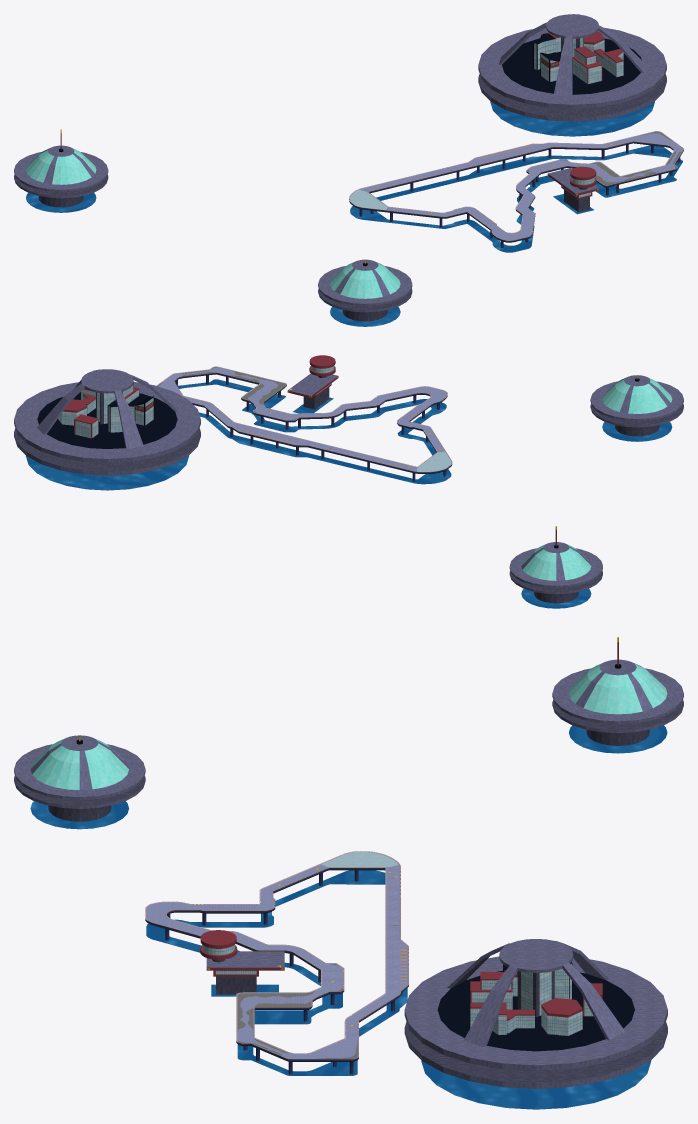
The picture shows the model from 3 angles, top to bottom: view 1: azimuth 30°, elevation 25°; view 2: azimuth 150°, elevation 25°; view 3: azimuth 270°, elevation 25°; orthographic projection. The views are drawn at different scales.
Parts seen in each view (by area): view 1: BigBlue1f_Main-PlainGray, BigBlue1f_Main-UT_wataBigBlueDark, BigBlue1f_Main-PlainGrayNotsoPlain, BigBlue1f_Main-DomeShield, BigBlue1f_Main-BlackAlmost, BigBlue1f_Main-zRoadBlue, BigBlue1f_Main-Skyscrapz0r, BigBlue1f_Main-BUZZ, BigBlue1f_Main-AlternatingBluePanels, BigBlue1f_Main-DarkRed, BigBlue1f_Main-TrackSides, BigBlue1f_Main-TrackSidesShadow (+2 smaller); view 2: BigBlue1f_Main-PlainGray, BigBlue1f_Main-UT_wataBigBlueDark, BigBlue1f_Main-PlainGrayNotsoPlain, BigBlue1f_Main-DomeShield, BigBlue1f_Main-BlackAlmost, BigBlue1f_Main-zRoadBlue, BigBlue1f_Main-Skyscrapz0r, BigBlue1f_Main-BUZZ, BigBlue1f_Main-AlternatingBluePanels, BigBlue1f_Main-DarkRed, BigBlue1f_Main-TrackSides, BigBlue1f_Main-TrackSidesShadow (+4 smaller); view 3: BigBlue1f_Main-PlainGray, BigBlue1f_Main-UT_wataBigBlueDark, BigBlue1f_Main-PlainGrayNotsoPlain, BigBlue1f_Main-DomeShield, BigBlue1f_Main-BlackAlmost, BigBlue1f_Main-zRoadBlue, BigBlue1f_Main-Skyscrapz0r, BigBlue1f_Main-AlternatingBluePanels, BigBlue1f_Main-DarkRed, BigBlue1f_Main-BUZZ, BigBlue1f_Main-TrackSides, BigBlue1f_Main-WeakOffRoad (+3 smaller).
Part boxes in pixels (left/top/right/bottom): BigBlue1f_Main-PlainGray: left=14, top=14, right=666, bottom=312; BigBlue1f_Main-UT_wataBigBlueDark: left=26, top=101, right=682, bottom=326; BigBlue1f_Main-PlainGrayNotsoPlain: left=14, top=37, right=666, bottom=321; BigBlue1f_Main-DomeShield: left=26, top=148, right=400, bottom=298; BigBlue1f_Main-BlackAlmost: left=59, top=33, right=641, bottom=266; BigBlue1f_Main-zRoadBlue: left=359, top=133, right=682, bottom=240; BigBlue1f_Main-Skyscrapz0r: left=534, top=37, right=623, bottom=197; BigBlue1f_Main-BUZZ: left=349, top=131, right=683, bottom=240; BigBlue1f_Main-AlternatingBluePanels: left=364, top=139, right=629, bottom=226; BigBlue1f_Main-DarkRed: left=60, top=31, right=623, bottom=199; BigBlue1f_Main-TrackSides: left=349, top=141, right=683, bottom=241; BigBlue1f_Main-TrackSidesShadow: left=351, top=142, right=676, bottom=242; BigBlue1f_Main-PlainGray: left=14, top=369, right=683, bottom=594; BigBlue1f_Main-UT_wataBigBlueDark: left=26, top=379, right=672, bottom=608; BigBlue1f_Main-PlainGrayNotsoPlain: left=14, top=376, right=683, bottom=603; BigBlue1f_Main-DomeShield: left=521, top=377, right=672, bottom=580; BigBlue1f_Main-BlackAlmost: left=37, top=375, right=639, bottom=548; BigBlue1f_Main-zRoadBlue: left=158, top=367, right=446, bottom=471; BigBlue1f_Main-Skyscrapz0r: left=58, top=366, right=334, bottom=438; BigBlue1f_Main-BUZZ: left=156, top=366, right=452, bottom=472; BigBlue1f_Main-AlternatingBluePanels: left=185, top=385, right=427, bottom=470; BigBlue1f_Main-DarkRed: left=63, top=355, right=556, bottom=545; BigBlue1f_Main-TrackSides: left=174, top=372, right=452, bottom=473; BigBlue1f_Main-TrackSidesShadow: left=175, top=374, right=449, bottom=473; BigBlue1f_Main-PlainGray: left=14, top=659, right=683, bottom=1088; BigBlue1f_Main-UT_wataBigBlueDark: left=30, top=725, right=667, bottom=1109; BigBlue1f_Main-PlainGrayNotsoPlain: left=14, top=700, right=683, bottom=1083; BigBlue1f_Main-DomeShield: left=30, top=662, right=667, bottom=789; BigBlue1f_Main-BlackAlmost: left=76, top=664, right=634, bottom=1051; BigBlue1f_Main-zRoadBlue: left=146, top=864, right=407, bottom=1058; BigBlue1f_Main-Skyscrapz0r: left=202, top=945, right=593, bottom=1035; BigBlue1f_Main-AlternatingBluePanels: left=204, top=868, right=399, bottom=1036; BigBlue1f_Main-DarkRed: left=200, top=637, right=618, bottom=1020; BigBlue1f_Main-BUZZ: left=145, top=851, right=408, bottom=1059; BigBlue1f_Main-TrackSides: left=145, top=868, right=408, bottom=1060; BigBlue1f_Main-WeakOffRoad: left=237, top=964, right=357, bottom=1058.
Size of what is drawn, in the model's own units: 296074 by 35723 by 203561.
25 materials, 25 textured.
